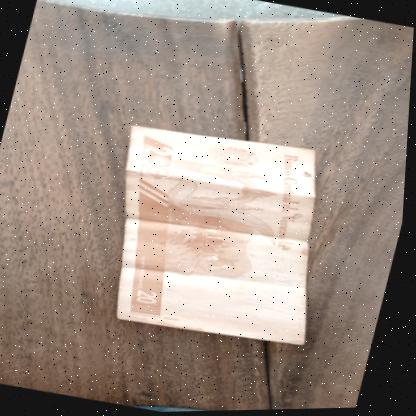twenty-back-vef: (85, 113, 357, 357)
